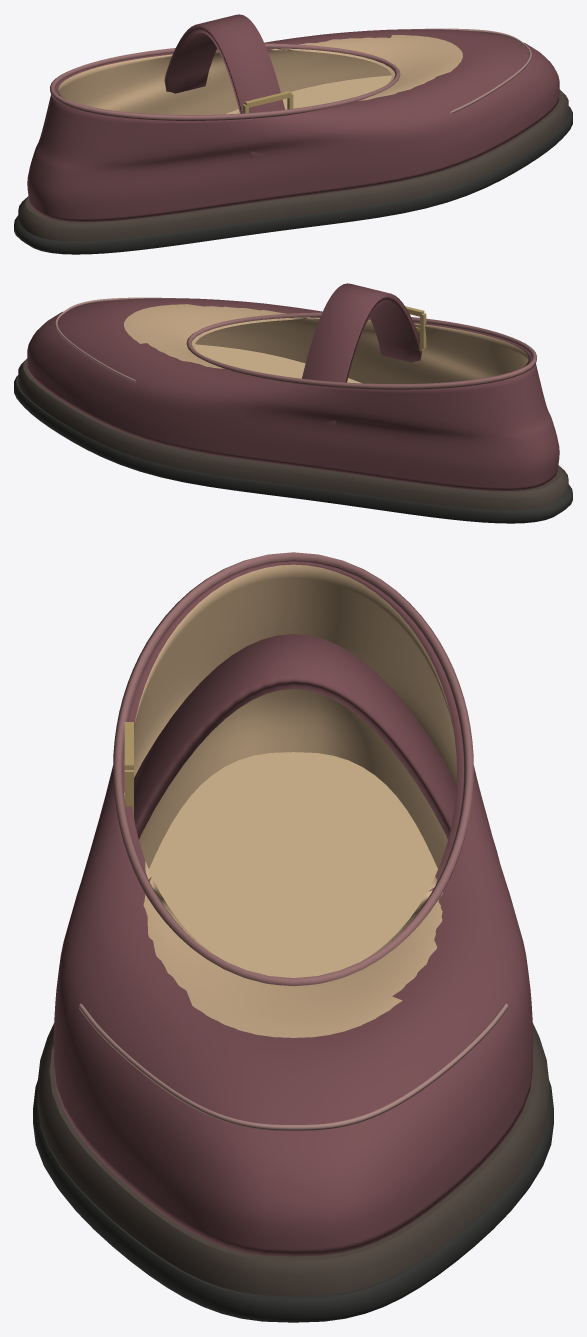
Rendered from mary-jane.glb.
The picture shows the model from 3 angles, top to bottom: view 1: azimuth 30°, elevation 25°; view 2: azimuth 150°, elevation 25°; view 3: azimuth 270°, elevation 25°; orthographic projection. The views are drawn at different scales.
Visible parts, largest first — view 1: hollow-upper-and-open-collar, layered-midsole, rubber-outsole, instep-strap, open-throat-edge, visible-insole-footbed, rounded-toe-seam, strap-buckle-top; view 2: hollow-upper-and-open-collar, layered-midsole, rubber-outsole, instep-strap, open-throat-edge, visible-insole-footbed, rounded-toe-seam; view 3: hollow-upper-and-open-collar, visible-insole-footbed, layered-midsole, instep-strap, rubber-outsole, open-throat-edge, rounded-toe-seam.
Boxes of the visible parts, x1,y1,x2,y2 form: hollow-upper-and-open-collar: [27, 29, 559, 222]; layered-midsole: [18, 89, 568, 241]; rubber-outsole: [14, 106, 572, 254]; instep-strap: [164, 14, 284, 157]; open-throat-edge: [50, 43, 400, 120]; visible-insole-footbed: [225, 75, 391, 114]; rounded-toe-seam: [411, 28, 531, 113]; strap-buckle-top: [244, 91, 291, 108]; hollow-upper-and-open-collar: [27, 298, 559, 491]; layered-midsole: [18, 358, 568, 510]; rubber-outsole: [14, 375, 572, 523]; instep-strap: [302, 283, 422, 426]; open-throat-edge: [186, 312, 536, 389]; visible-insole-footbed: [195, 344, 361, 383]; rounded-toe-seam: [55, 297, 175, 382]; hollow-upper-and-open-collar: [53, 561, 533, 1256]; visible-insole-footbed: [149, 752, 437, 977]; layered-midsole: [37, 1023, 549, 1296]; instep-strap: [134, 634, 456, 839]; rubber-outsole: [33, 1080, 553, 1322]; open-throat-edge: [113, 552, 473, 986]; rounded-toe-seam: [78, 1003, 508, 1130].
Size of the model in its own units: 0.253 by 0.0794 by 0.1053.
